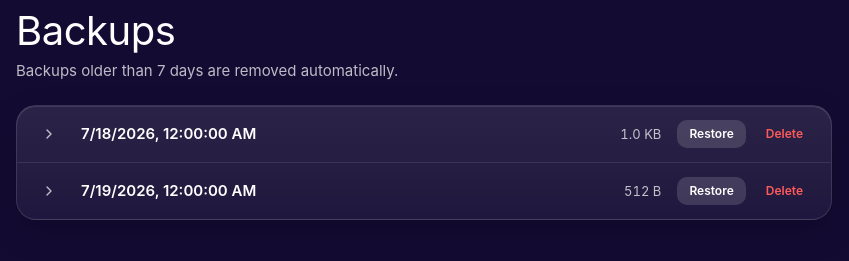
<Backups /> details › keeps a fetch error scoped to the session that failed, not other sessions
Expand session A: fetch stays pending (in flight).
Click the button named "toggle details".
click(49, 134)  # box [33,118,65,150]
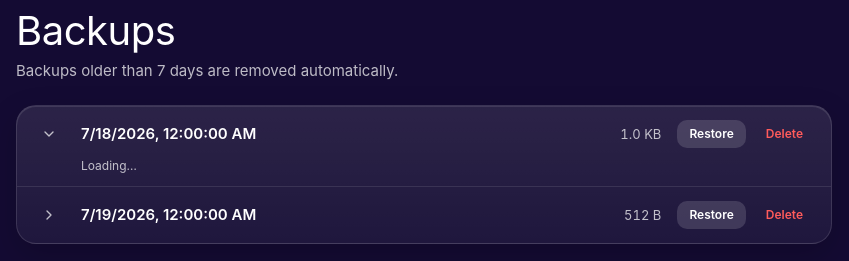
Collapse A and expand B before A's fetch settles.
Click the button named "toggle details".
click(49, 134)  # box [33,118,65,150]
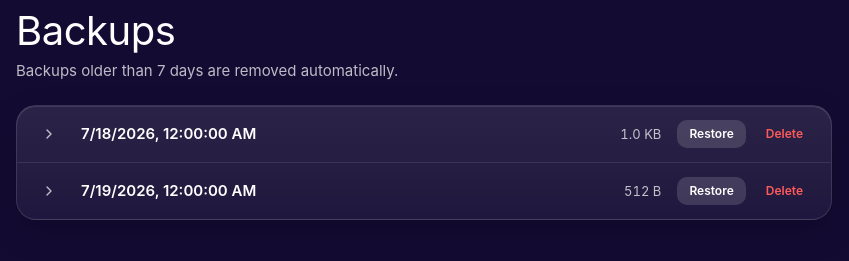
Click the button named "toggle details".
click(49, 191)  # box [33,175,65,207]
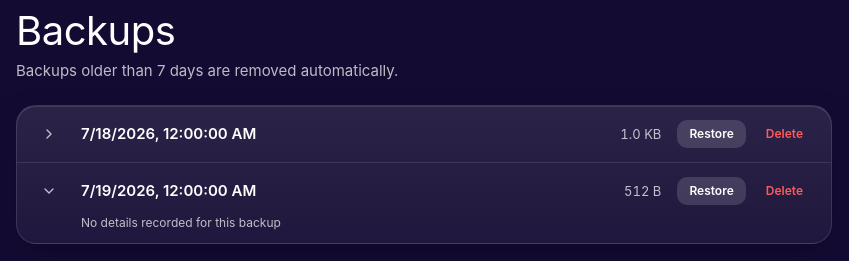
Check: the text "No details recorded for this backup" is shown, box [81,215,281,230]
